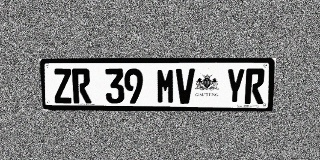3: (105, 68, 124, 104)
9: (124, 68, 143, 104)
M: (156, 68, 175, 104)
R: (244, 68, 265, 104), (72, 69, 91, 103)
V: (176, 68, 195, 104)
Y: (225, 68, 245, 104)
Z: (53, 69, 73, 103)
